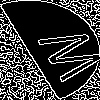W: (25, 25, 100, 87)
